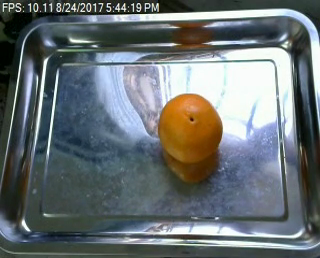Orange: (157, 92, 224, 164)
